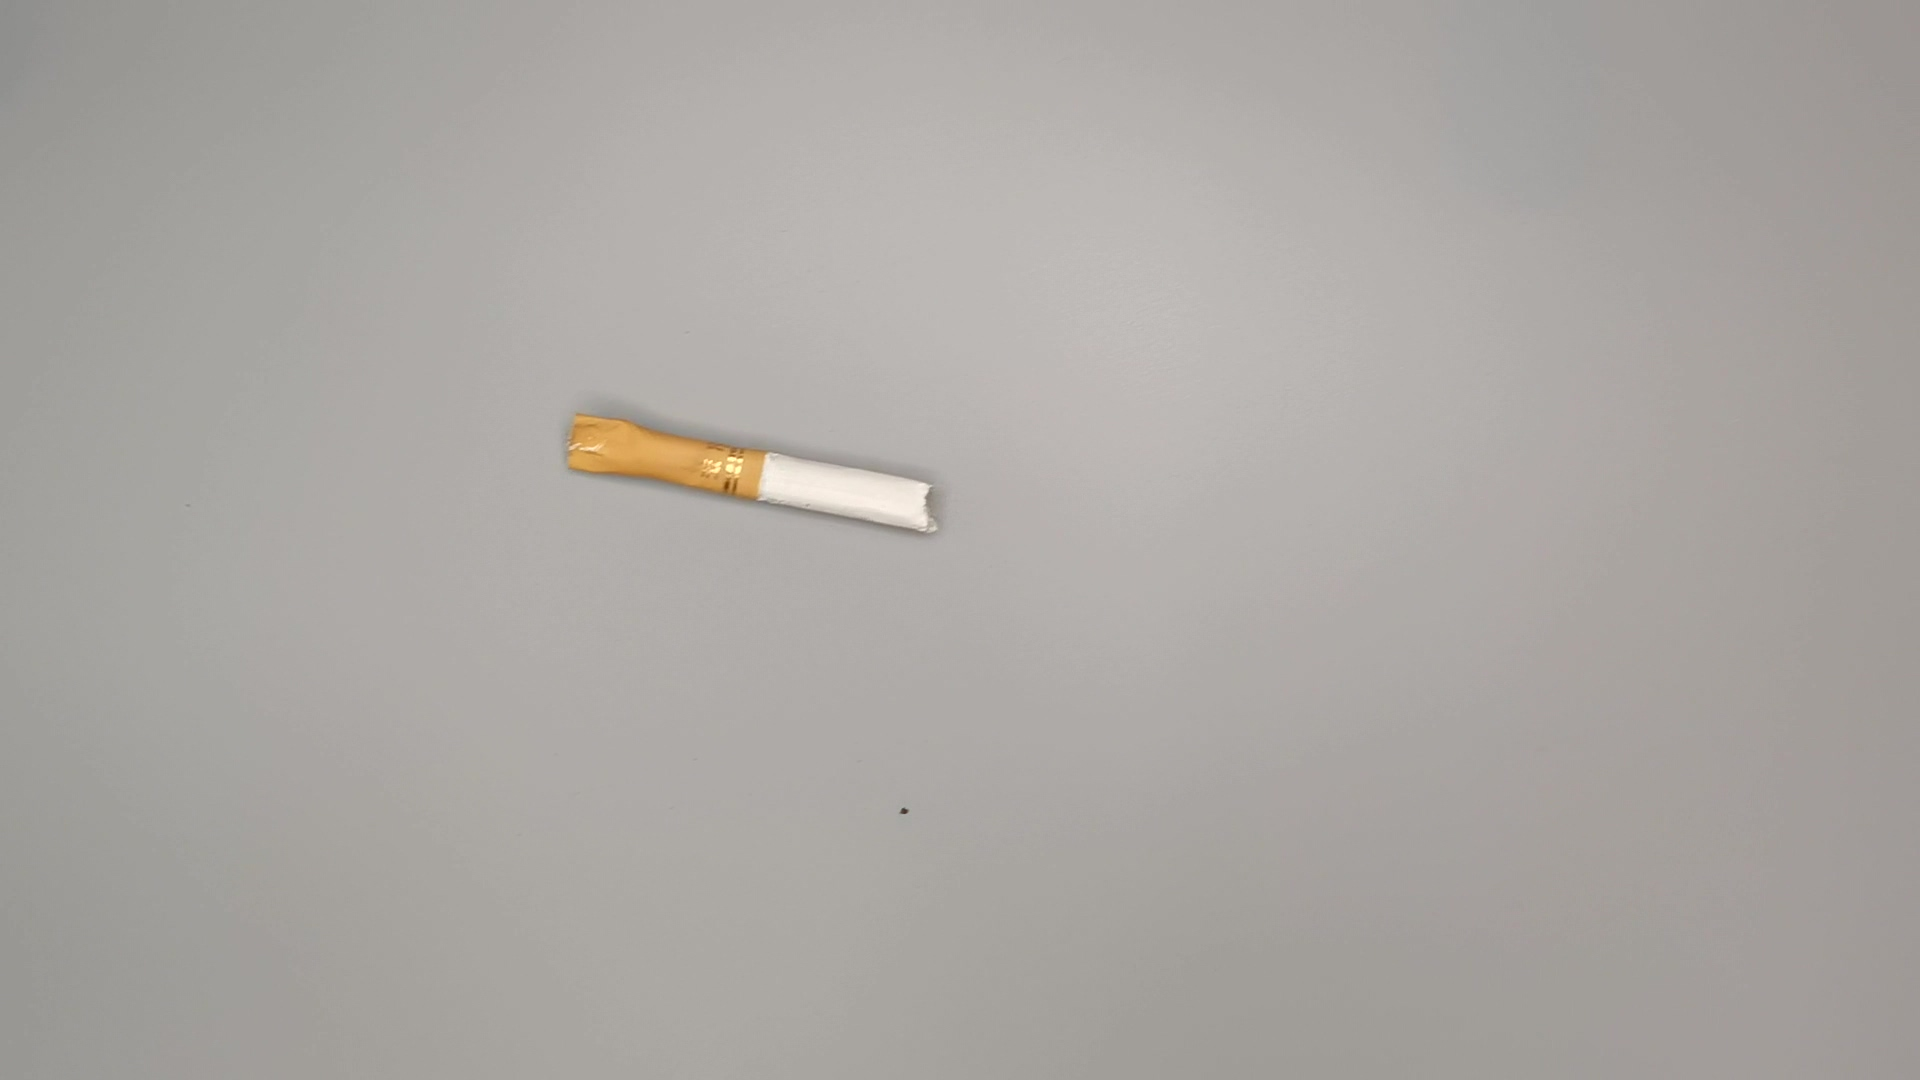cigarette: (560, 405, 947, 542)
